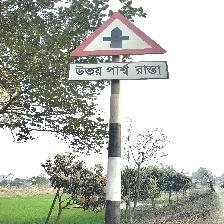Crossroad: (65, 9, 174, 84)
